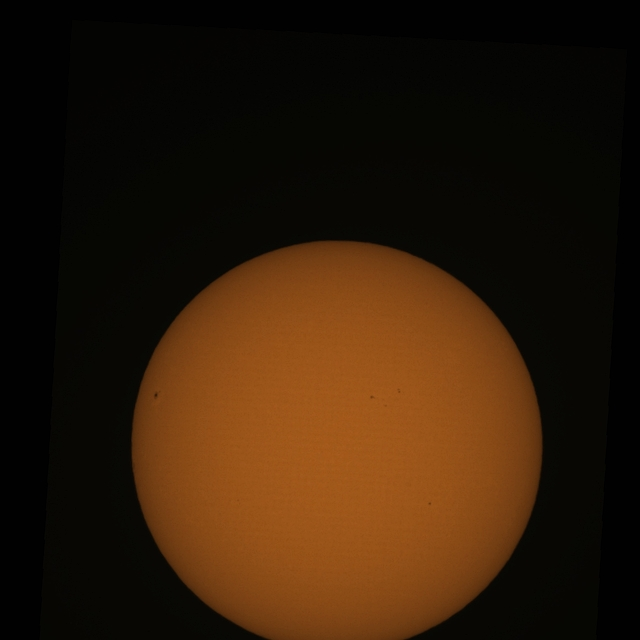sunspot: (153, 390, 161, 400), (396, 387, 402, 394), (370, 394, 376, 400), (427, 500, 432, 506), (383, 403, 388, 408)
